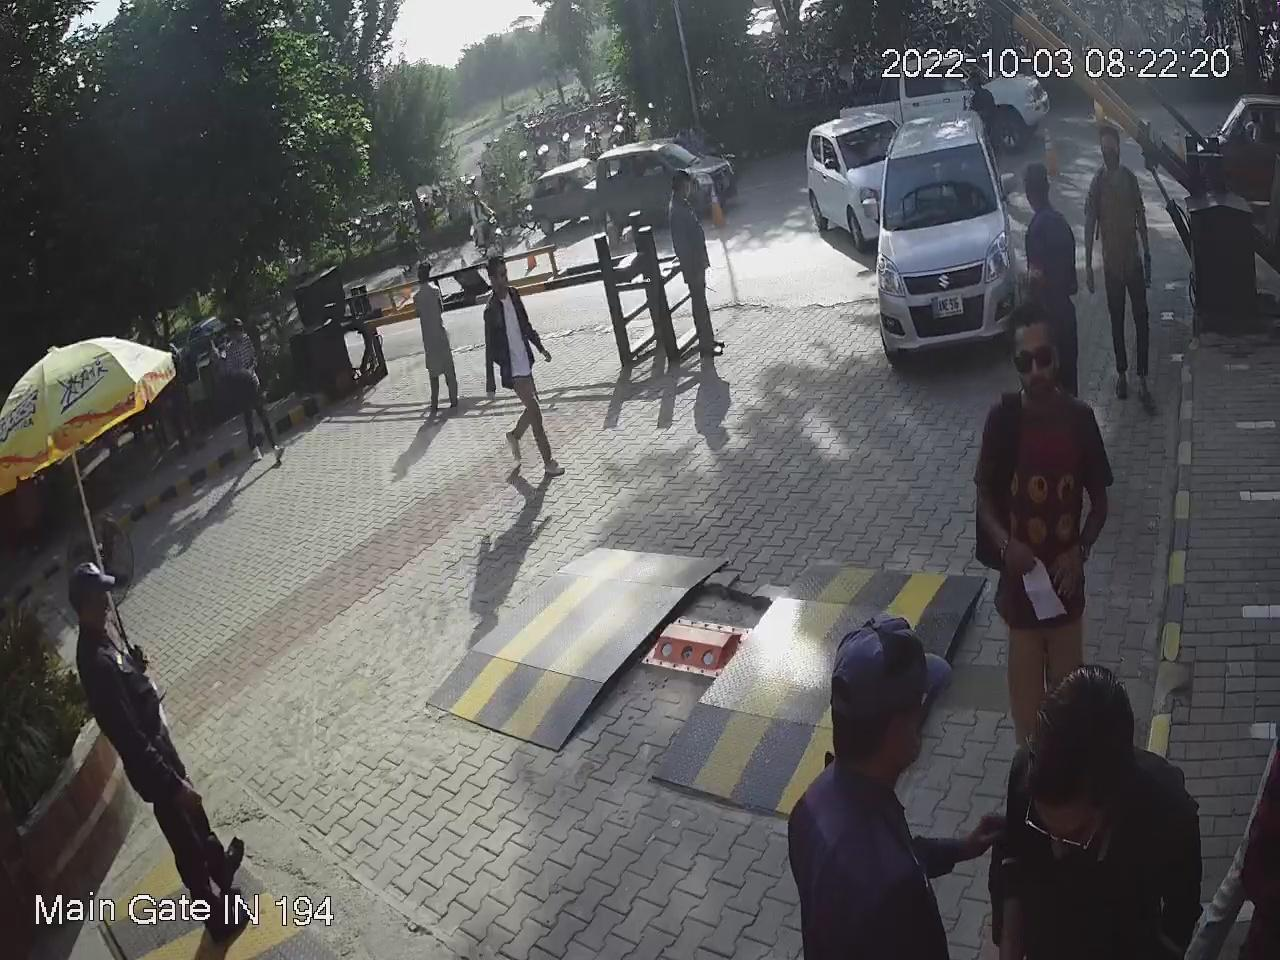windshield: (885, 137, 998, 233)
